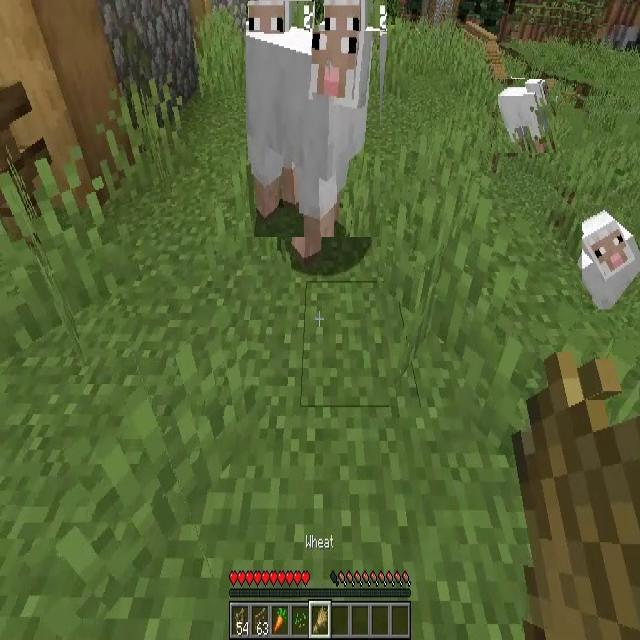sheep: (247, 1, 381, 237), (582, 205, 640, 313), (498, 79, 556, 153), (315, 0, 387, 31)
